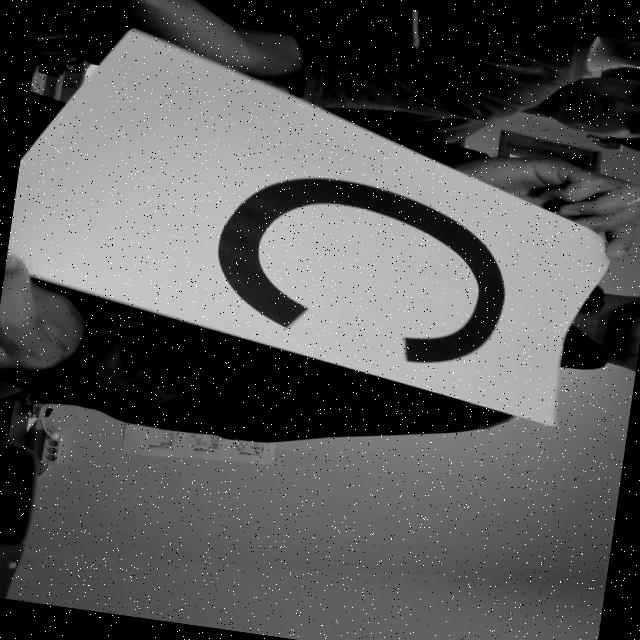c: (196, 159, 534, 381)
